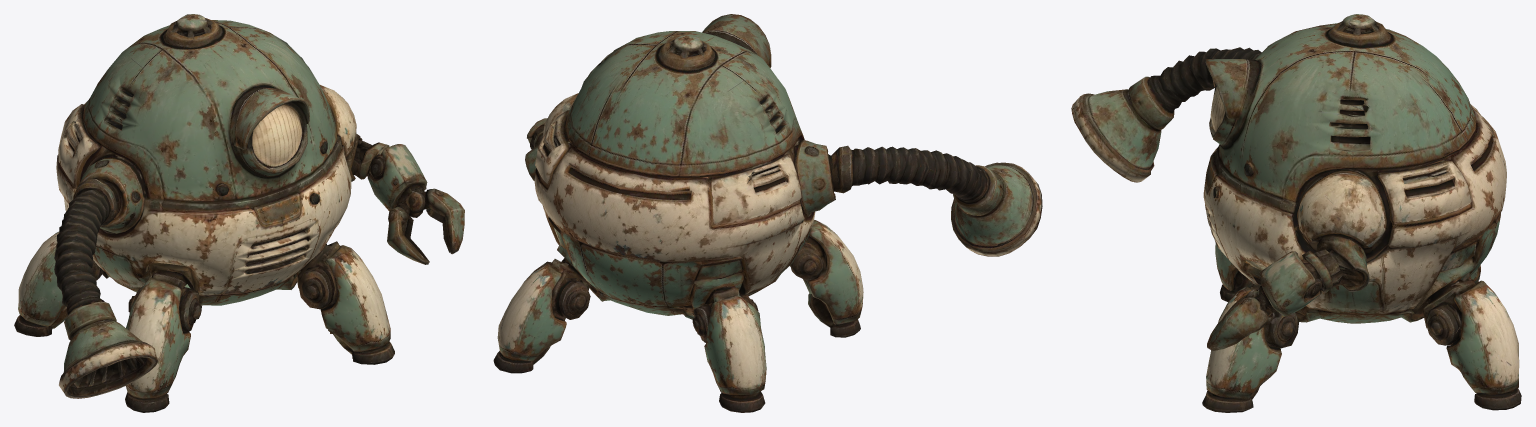
File: enemy_cleaner.glb
3 views of the same model, side by side, from view 1: azimuth 30°, elevation 25°; view 2: azimuth 150°, elevation 25°; view 3: azimuth 270°, elevation 25° (orthographic). The views are drawn at different scales.
Size of the model in its own units: 0.9497 by 0.6372 by 0.7866.
1 material, 1 textured.
